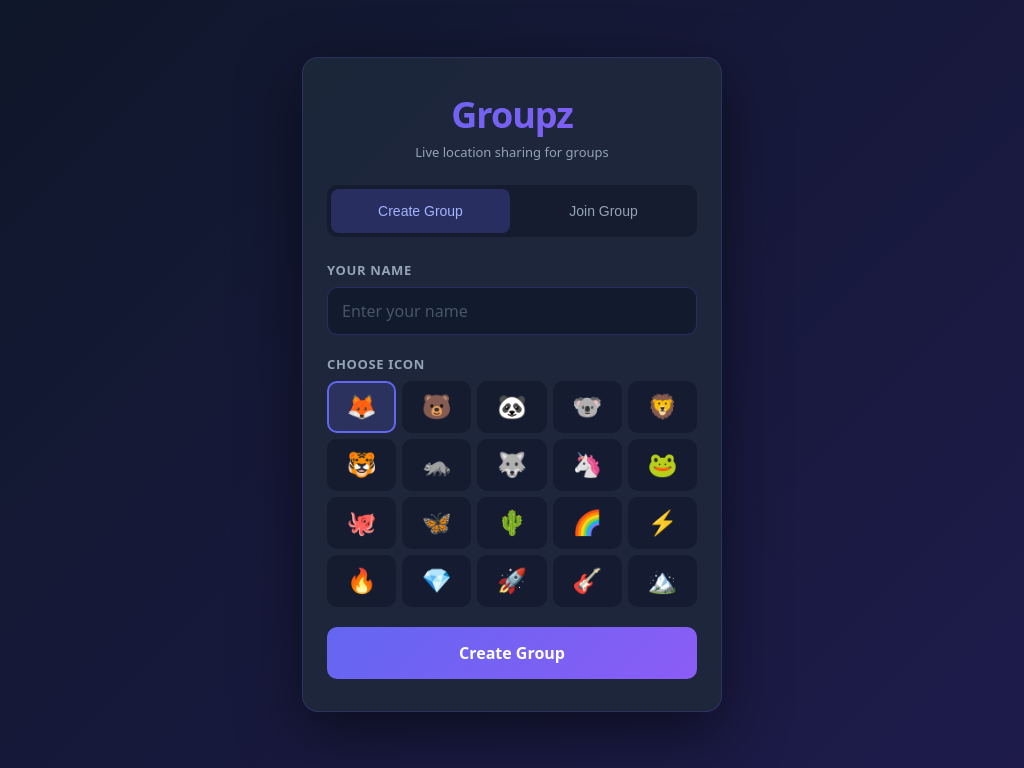
Test case: Home › tab switching › switching to Join tab reveals the code input
Click the button "Join Group". click: x=604, y=210
box: [514,188,693,232]
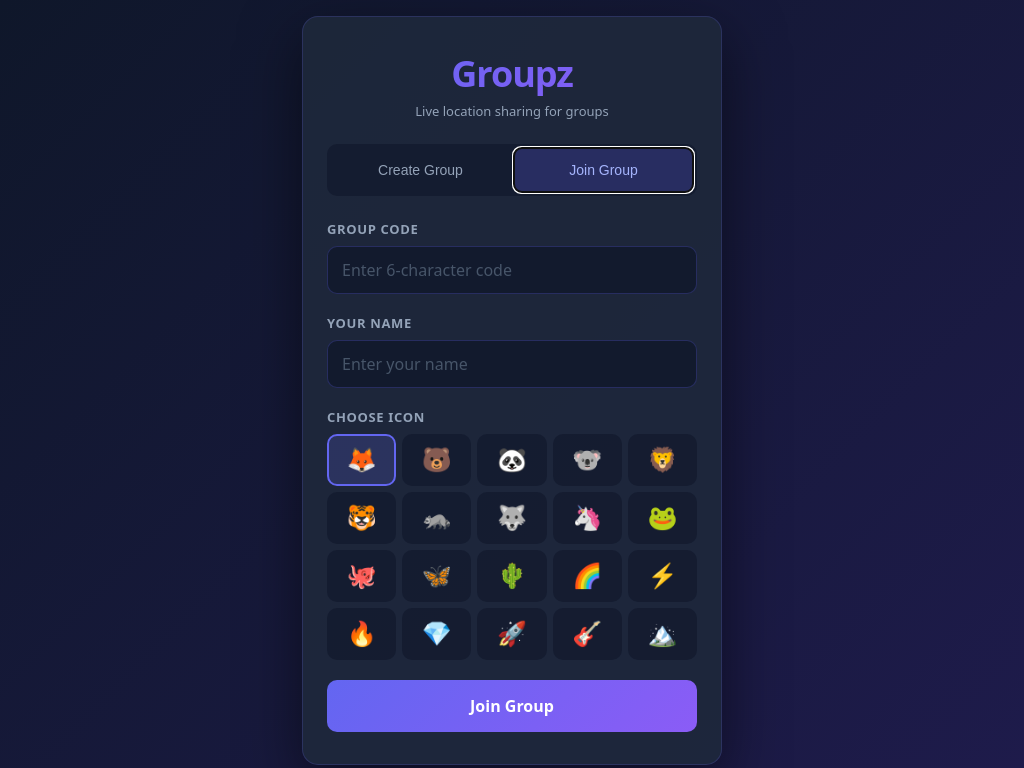
Check: the field with placeholder "Enter 6-character code" is shown, box [327,246,697,294]
